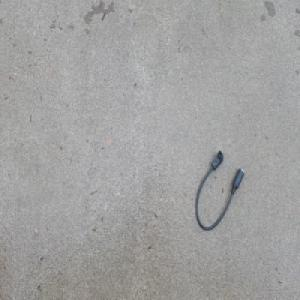Wire: (194, 147, 245, 230)
